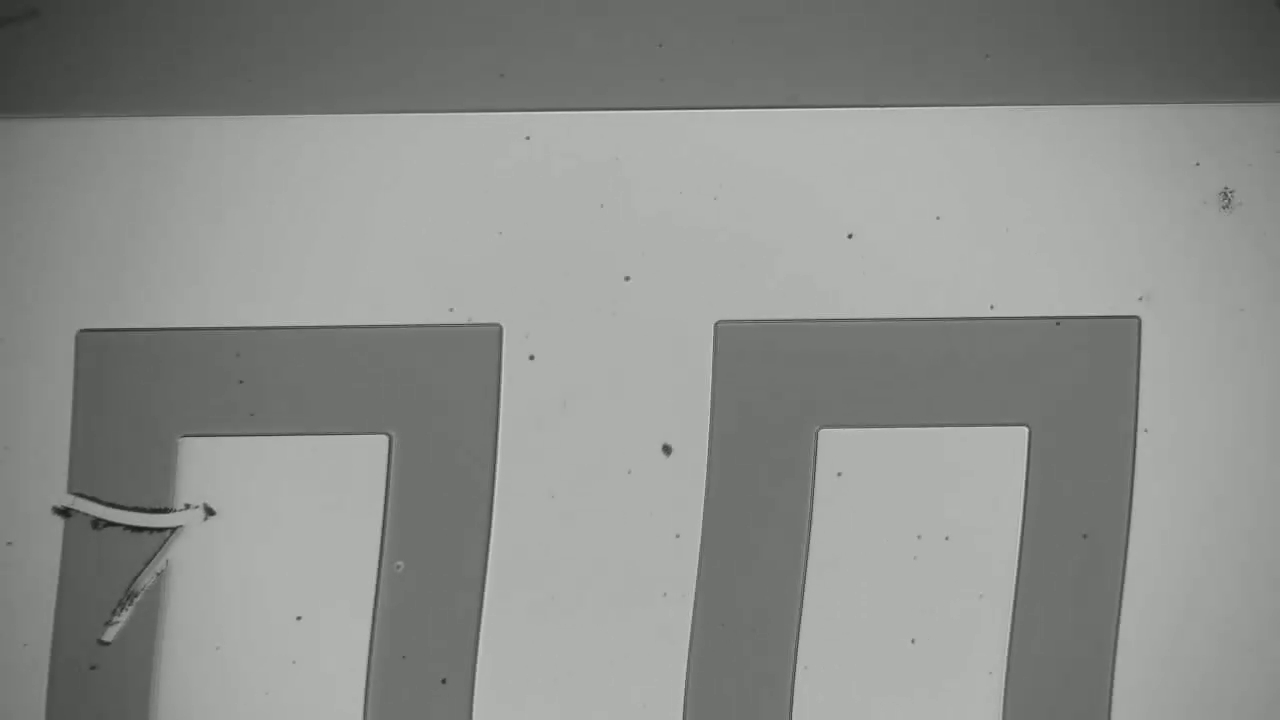Short_circuit: (34, 473, 214, 565)
